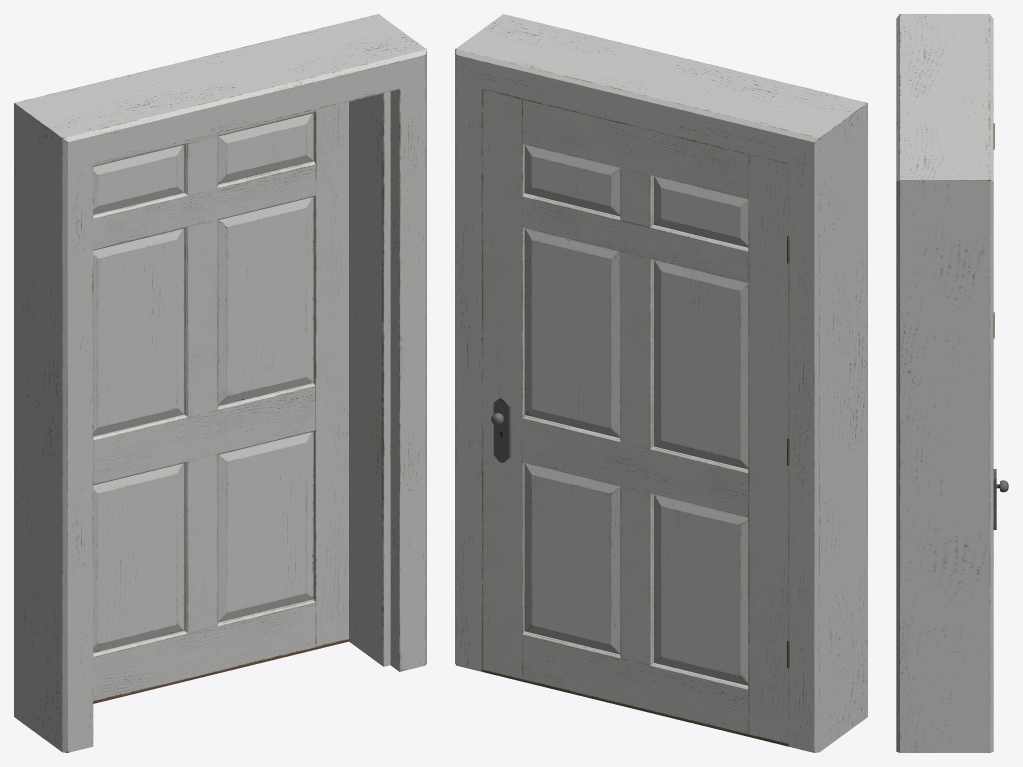
Rendered from doorQuad.fbx.
3 views of the same model, side by side, from view 1: azimuth 30°, elevation 25°; view 2: azimuth 150°, elevation 25°; view 3: azimuth 270°, elevation 25° (orthographic). The views are drawn at different scales.
Parts seen in each view (by area): view 1: Door, Frame; view 2: Door, Frame; view 3: Frame, Door.
Part boxes in pixels (bbox=[...]): Door: bbox=[93, 101, 348, 701]; Frame: bbox=[14, 14, 426, 752]; Door: bbox=[482, 89, 788, 744]; Frame: bbox=[455, 14, 867, 752]; Frame: bbox=[896, 14, 994, 752]; Door: bbox=[993, 469, 1008, 529].
Bounding box in the file's own units: 131 × 211 × 37.45.
